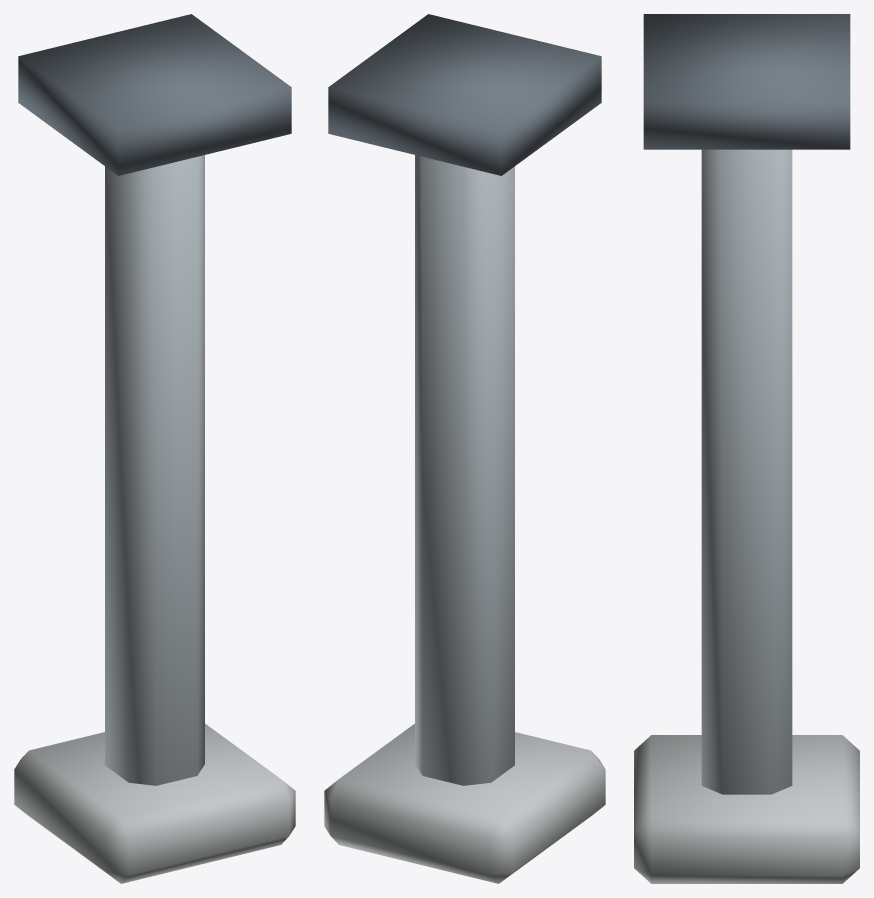
The model's file is support_column_standard.glb.
3 renders of one model, left to right at view 1: azimuth 30°, elevation 25°; view 2: azimuth 150°, elevation 25°; view 3: azimuth 270°, elevation 25°, orthographic. The views are drawn at different scales.
Visible parts, largest first — view 1: Column_steel, Cap_dark, Base_concrete; view 2: Column_steel, Cap_dark, Base_concrete; view 3: Column_steel, Cap_dark, Base_concrete.
Boxes of the visible parts, <box> form: Column_steel: <box>105,155,204,785</box>; Cap_dark: <box>18,14,291,175</box>; Base_concrete: <box>14,723,295,883</box>; Column_steel: <box>415,155,514,785</box>; Cap_dark: <box>328,14,601,175</box>; Base_concrete: <box>324,723,605,883</box>; Column_steel: <box>701,149,792,794</box>; Cap_dark: <box>643,14,850,149</box>; Base_concrete: <box>634,735,859,883</box>.
Bounding box in the file's own units: 0.72 × 2.77 × 0.72.
